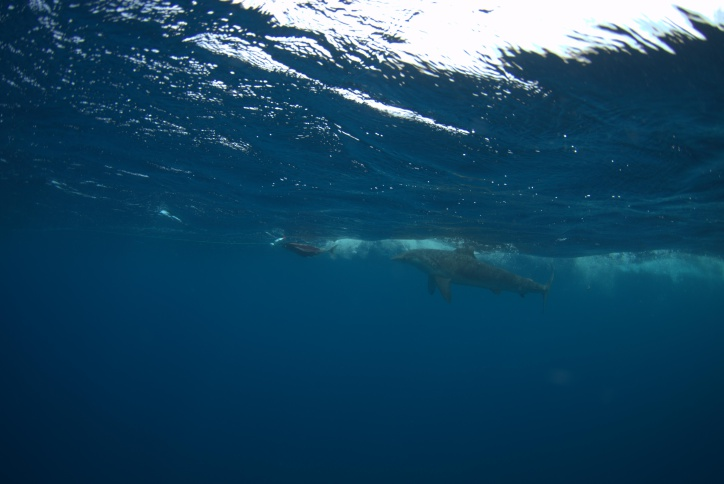Hammer: (166, 114, 598, 286), (381, 235, 566, 319)
